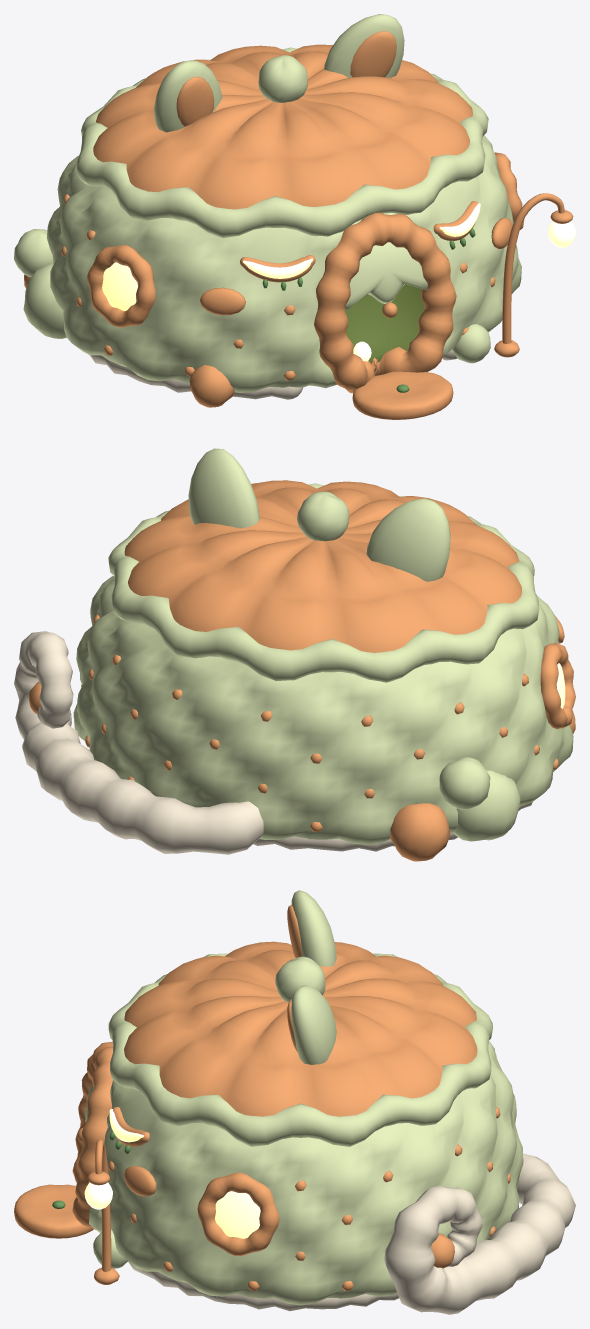
Rendered from house_03_0302.fbx.
3 renders of one model, top to bottom at view 1: azimuth 30°, elevation 25°; view 2: azimuth 150°, elevation 25°; view 3: azimuth 270°, elevation 25°, orthographic. The views are drawn at different scales.
Parts seen in each view (by area): view 1: House_Body, Roof_Blanket, Roof_FurTrim, Entrance_Rim, Roof_Ears, Deco_FluffBalls_Cream, Window_PortholeRims, Entrance_StepCushion, Entrance_Hollow, Entrance_Door_Curtain, Roof_EarsInner, Deco_DreamLamp_Stalk (+9 smaller); view 2: House_Body, Roof_Blanket, Deco_CurlyTail, Roof_FurTrim, Roof_Ears, Deco_FluffBalls_Cream, Deco_FluffBalls_Pink, Window_PortholeRims, Roof_Pompom, Deco_QuiltButtons, Deco_FurHem; view 3: House_Body, Roof_Blanket, Deco_CurlyTail, Roof_FurTrim, Roof_Ears, Entrance_Rim, Window_PortholeRims, Entrance_StepCushion, Deco_FurHem, Window_PortholeGlow, Deco_DreamLamp_Stalk, Roof_Pompom (+5 smaller).
Part boxes in pixels (x1=…): House_Body: x1=46, y1=135, x2=521, y2=392; Roof_Blanket: x1=93, y1=44, x2=472, y2=209; Roof_FurTrim: x1=77, y1=47, x2=488, y2=238; Entrance_Rim: x1=314, y1=212, x2=456, y2=393; Roof_Ears: x1=154, y1=14, x2=404, y2=132; Deco_FluffBalls_Cream: x1=14, y1=229, x2=490, y2=363; Window_PortholeRims: x1=87, y1=152, x2=524, y2=327; Entrance_StepCushion: x1=352, y1=371, x2=453, y2=419; Entrance_Hollow: x1=345, y1=284, x2=424, y2=363; Entrance_Door_Curtain: x1=345, y1=242, x2=428, y2=310; Roof_EarsInner: x1=176, y1=31, x2=396, y2=126; Deco_DreamLamp_Stalk: x1=494, y1=193, x2=573, y2=357; House_Body: x1=73, y1=576, x2=573, y2=844; Roof_Blanket: x1=124, y1=480, x2=521, y2=652; Deco_CurlyTail: x1=14, y1=631, x2=263, y2=854; Roof_FurTrim: x1=108, y1=483, x2=539, y2=682; Roof_Ears: x1=188, y1=448, x2=450, y2=581; Deco_FluffBalls_Cream: x1=439, y1=757, x2=520, y2=841; Deco_FluffBalls_Pink: x1=389, y1=710, x2=575, y2=861; Window_PortholeRims: x1=540, y1=643, x2=575, y2=729; Roof_Pompom: x1=296, y1=491, x2=349, y2=541; Deco_QuiltButtons: x1=81, y1=614, x2=558, y2=831; Deco_FurHem: x1=253, y1=802, x2=532, y2=851; House_Body: x1=89, y1=1041, x2=523, y2=1305; Roof_Blanket: x1=124, y1=941, x2=477, y2=1116; Deco_CurlyTail: x1=384, y1=1153, x2=575, y2=1314; Roof_FurTrim: x1=108, y1=953, x2=492, y2=1146; Roof_Ears: x1=291, y1=890, x2=336, y2=1064; Entrance_Rim: x1=72, y1=1041, x2=112, y2=1229; Window_PortholeRims: x1=197, y1=1172, x2=279, y2=1256; Entrance_StepCushion: x1=14, y1=1184, x2=93, y2=1238; Deco_FurHem: x1=128, y1=1261, x2=398, y2=1311; Window_PortholeGlow: x1=215, y1=1191, x2=260, y2=1238; Deco_DreamLamp_Stalk: x1=87, y1=1139, x2=119, y2=1284; Roof_Pompom: x1=275, y1=956, x2=325, y2=1002.
Size of the model in its own units: 5.55 by 3.23 by 5.86.
